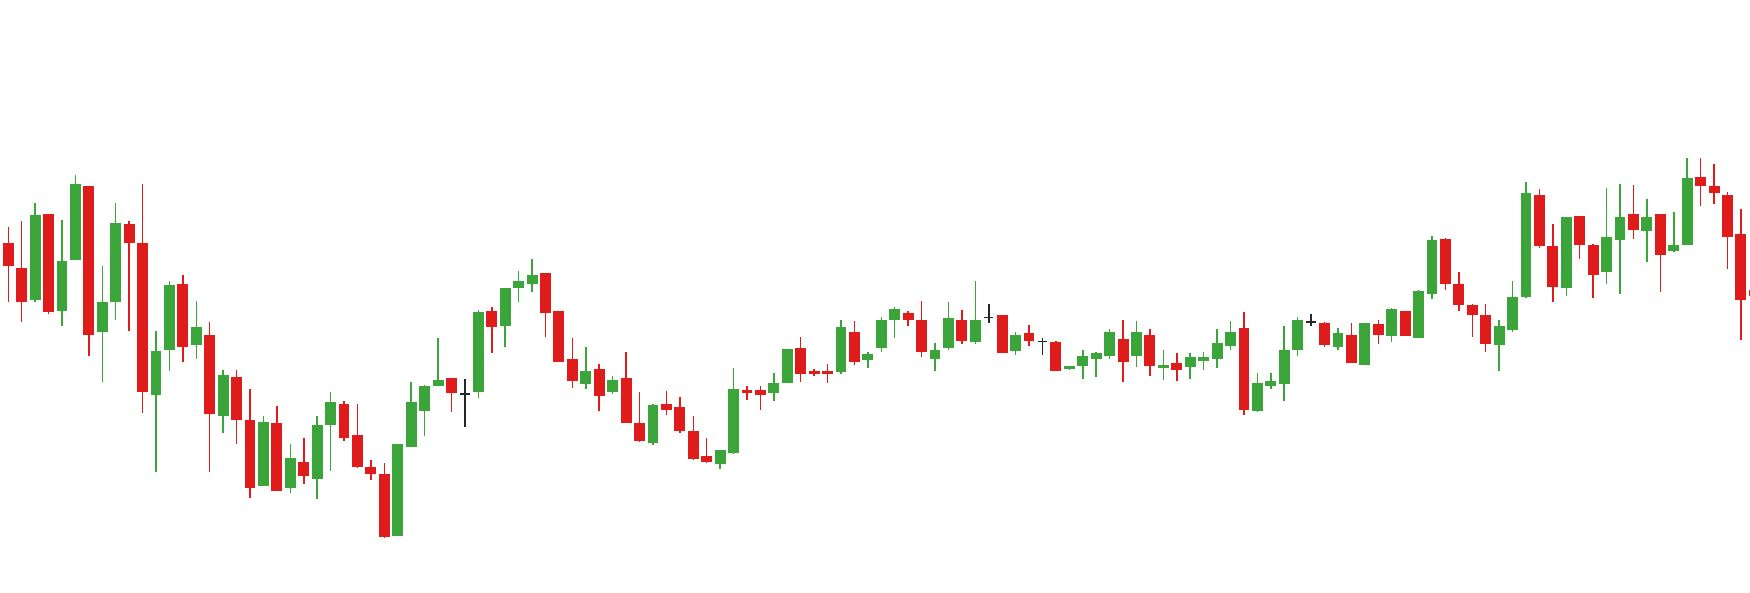buy: (309, 420, 406, 542), (1384, 291, 1504, 374), (1158, 337, 1277, 413)
sell: (1628, 157, 1720, 243)
